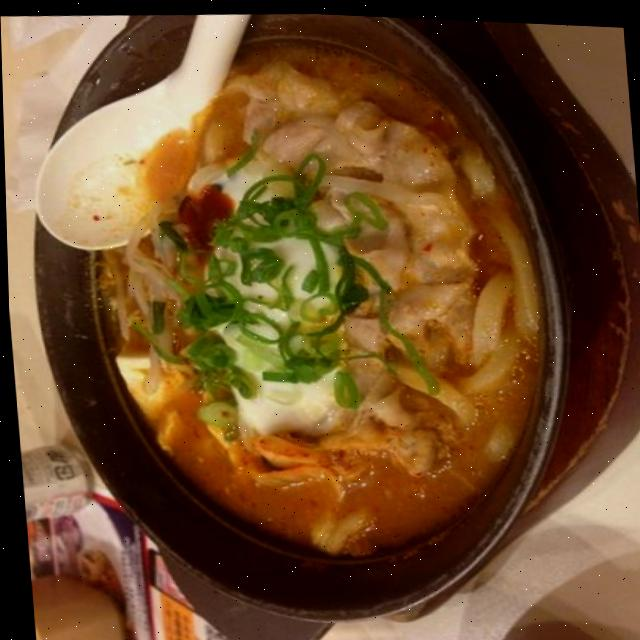汤锅炖物: (37, 21, 527, 590)
